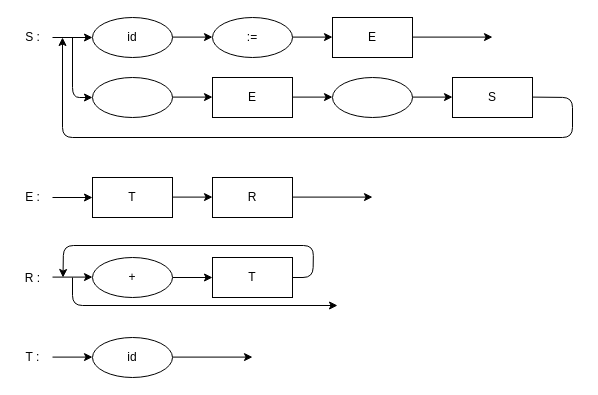
This 598x395 diagram has some shape labels left out. The shapes that lost their labels are listed below. From the top down, each one's box as (x1, y1, x2, y2) in pixels, then its label:
(92, 76, 172, 118): if
(332, 76, 412, 118): then
